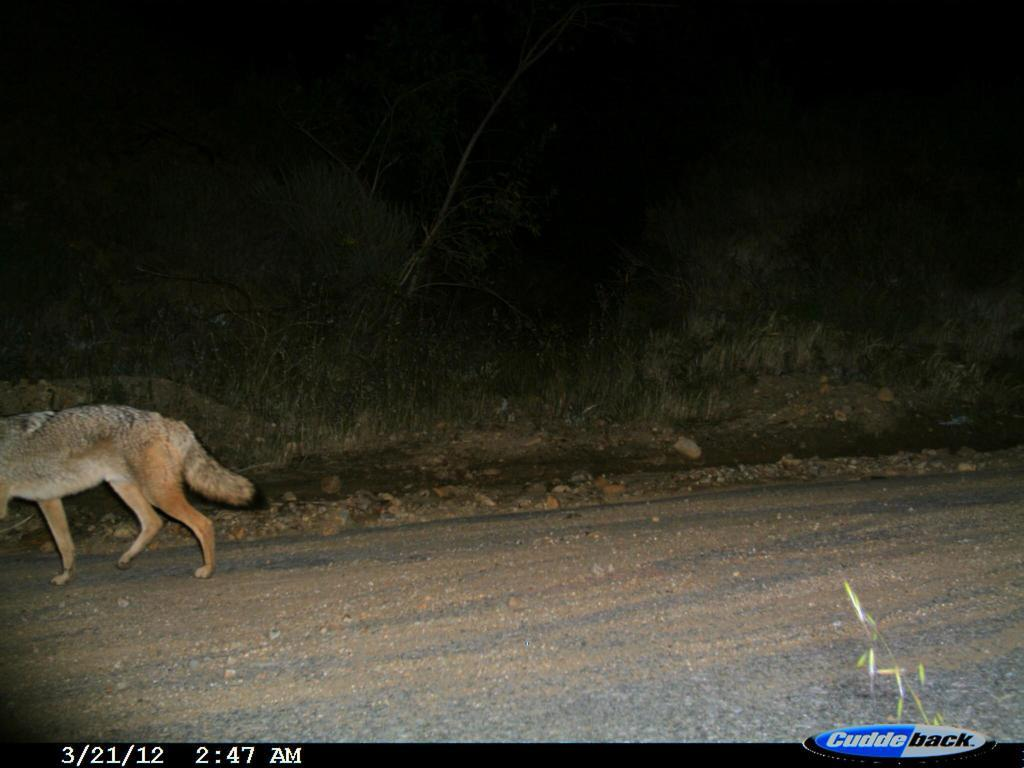coyote: (6, 388, 283, 594)
